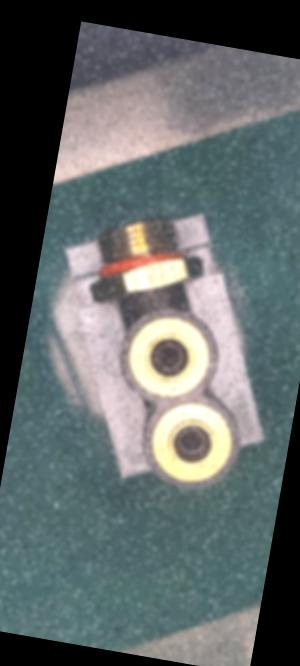craze: (143, 289, 159, 311)
